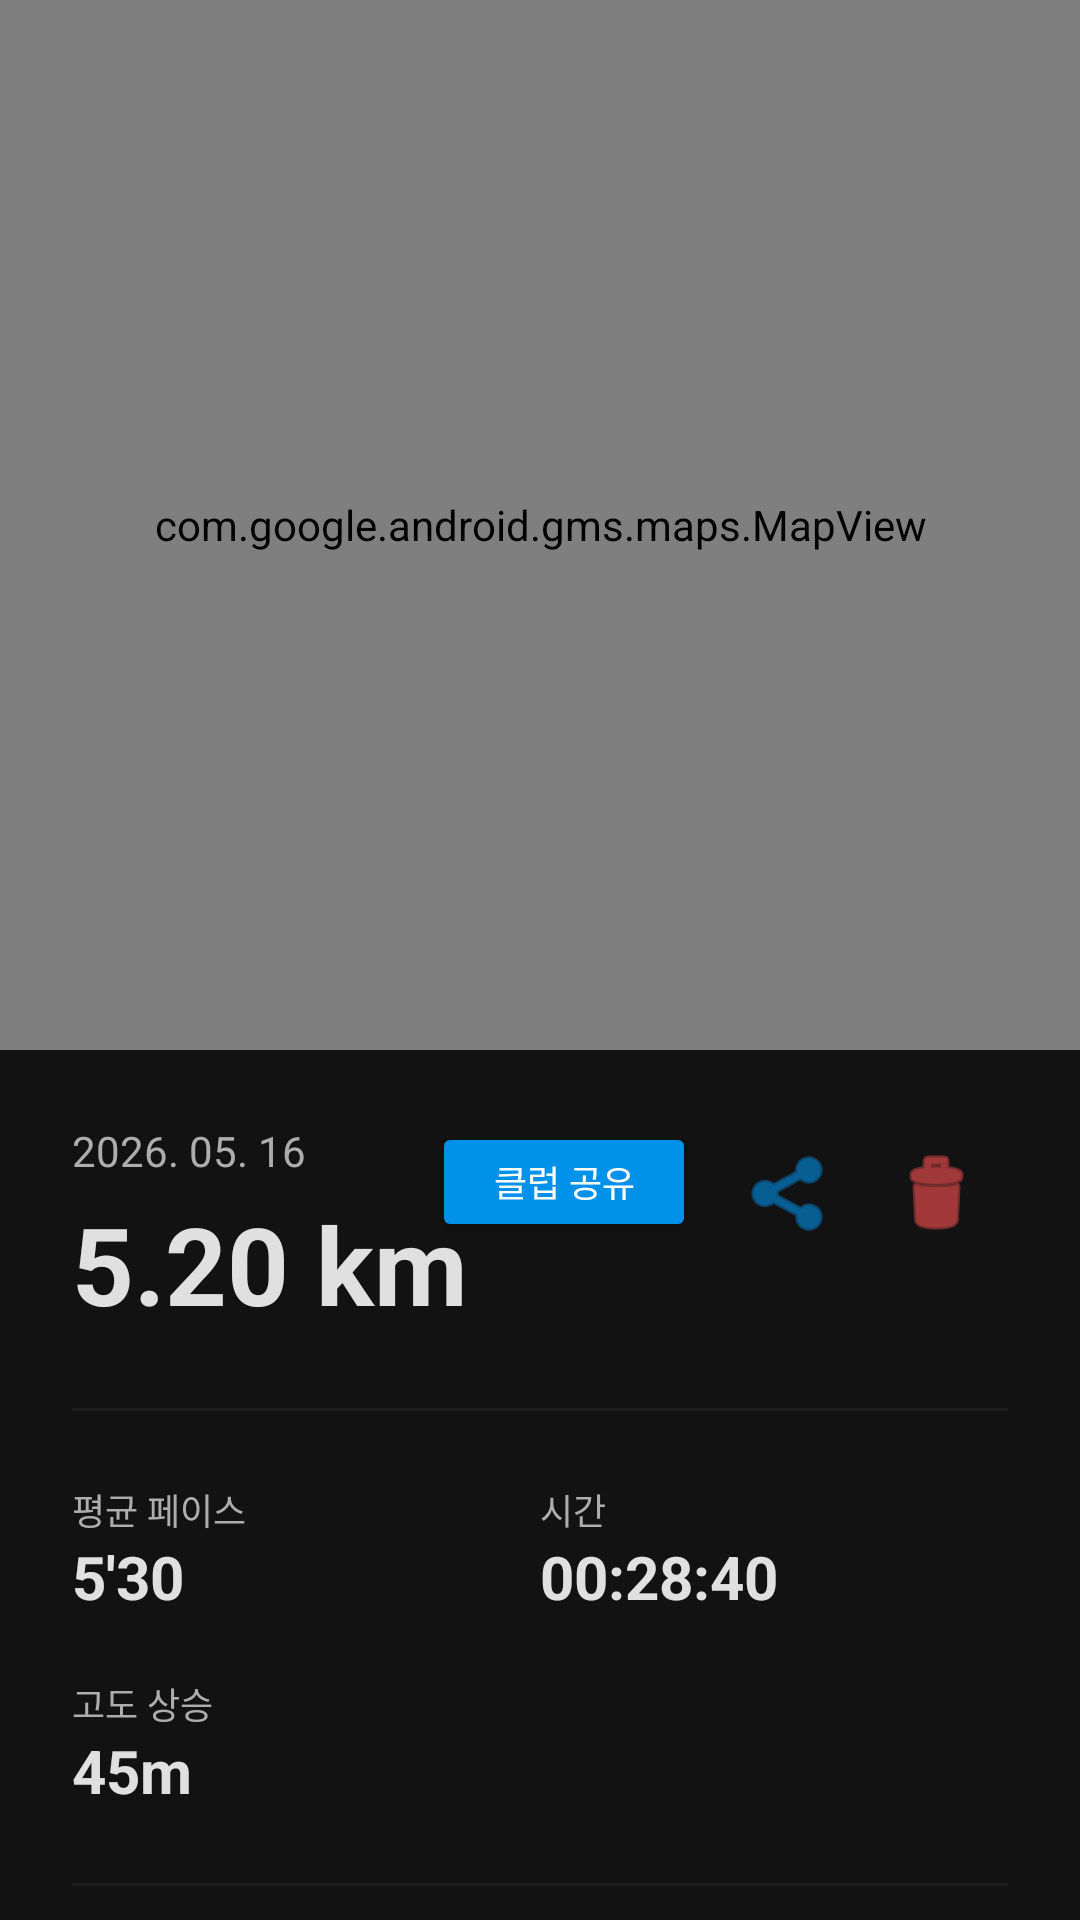

Icons on this 1080x1920 Android screen, each with its box as (x1,y1,x2,y2):
Delete: (909,1155,964,1230)
Share: (751,1156,823,1231)
